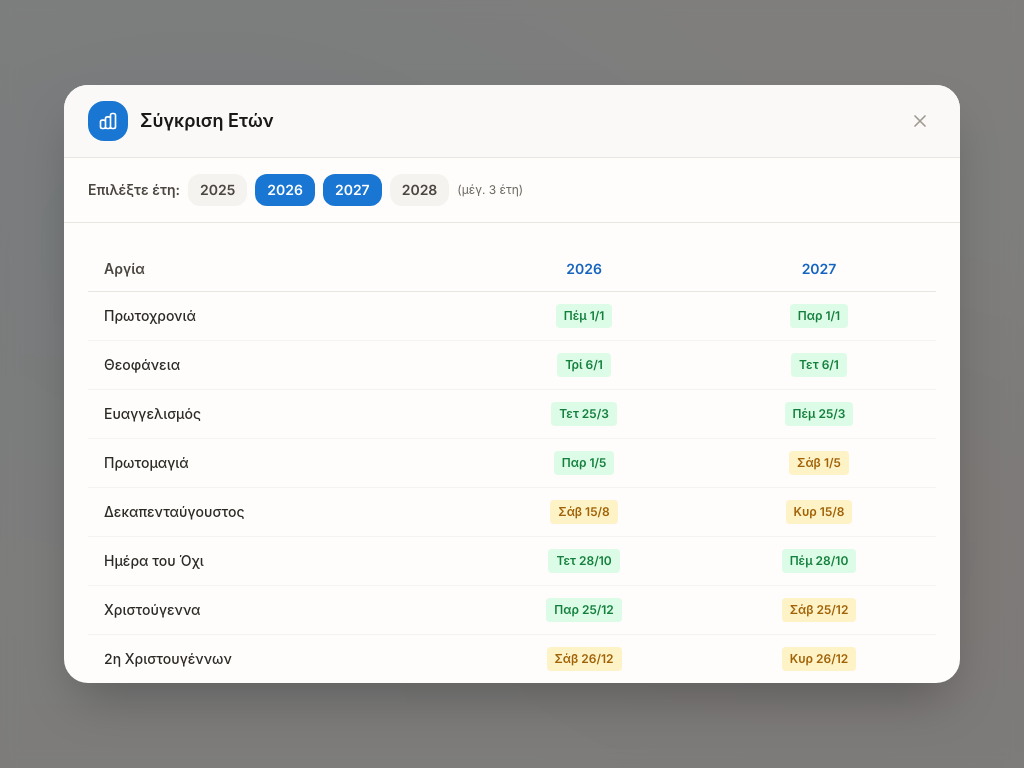
Test: YearComparisonModal › should show empty state when no years selected
This screenshot has width=1024, height=768.
Click the button "2026" at (285, 190), box [255,174,315,206]
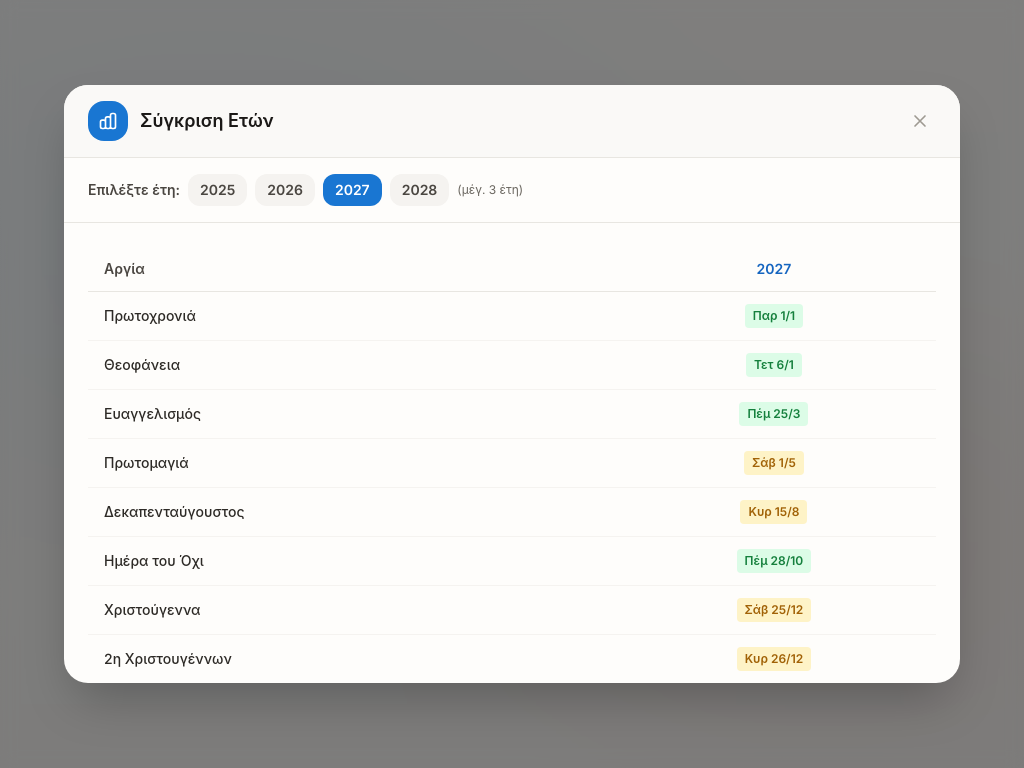
Click the button "2027" at (352, 190), box [323,174,382,206]
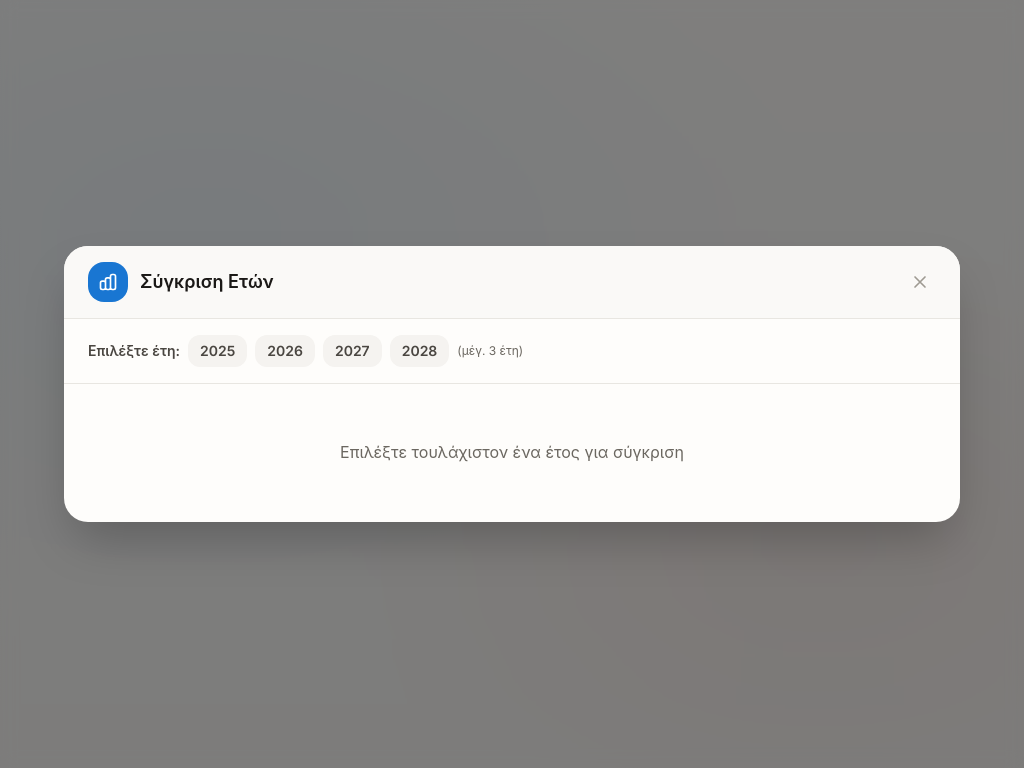
Expected: the text "Επιλέξτε τουλάχιστον ένα έτος για σύγκριση" is shown, [340,442,684,462]
